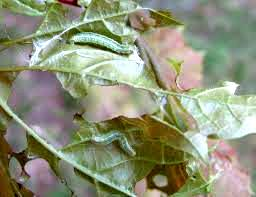Caterpillar: (67, 31, 134, 56), (89, 128, 140, 159)
